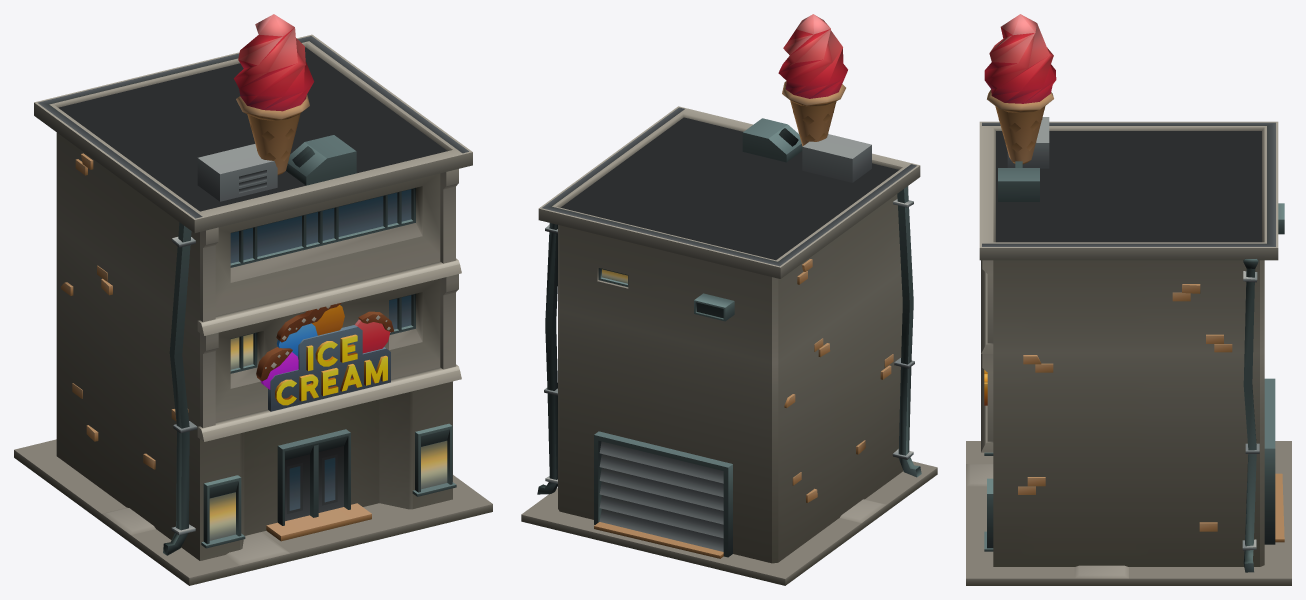
Rendered from Building_9A.fbx.
The picture shows the model from 3 angles, left to right: view 1: azimuth 30°, elevation 25°; view 2: azimuth 150°, elevation 25°; view 3: azimuth 270°, elevation 25°; orthographic projection. The views are drawn at different scales.
Parts seen in each view (by area): view 1: Building_9A, Cone_9A, Window_Lights_9A; view 2: Building_9A, Cone_9A; view 3: Building_9A, Cone_9A.
Part boxes in pixels (left/top/right/bottom): Building_9A: left=14, top=34, right=492, bottom=585; Cone_9A: left=234, top=14, right=313, bottom=175; Window_Lights_9A: left=209, top=334, right=447, bottom=540; Building_9A: left=521, top=106, right=937, bottom=585; Cone_9A: left=778, top=14, right=847, bottom=146; Building_9A: left=966, top=117, right=1291, bottom=585; Cone_9A: left=984, top=14, right=1056, bottom=164.
Size of the model in its own units: 1214 by 1974 by 1200.
